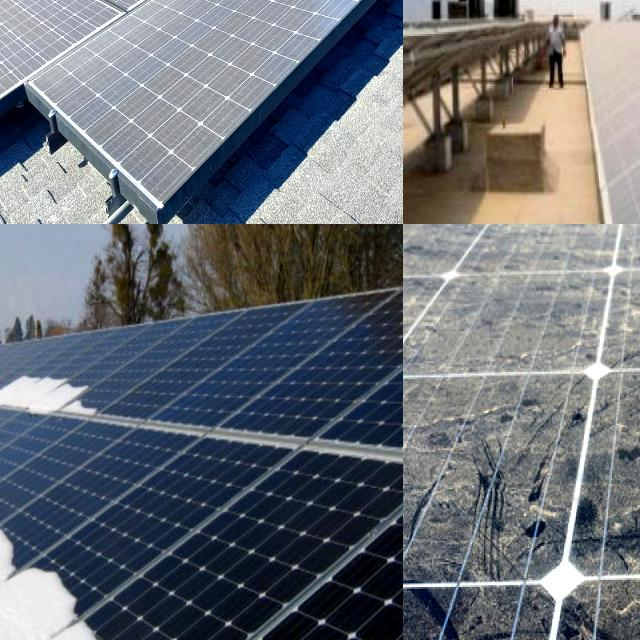dust: (403, 392, 552, 576), (413, 224, 581, 376), (86, 31, 206, 129), (179, 0, 312, 31), (286, 0, 377, 35), (0, 0, 66, 46), (78, 0, 178, 24), (194, 0, 269, 18), (349, 0, 384, 25)
panel: (0, 362, 101, 444), (0, 472, 74, 581), (0, 551, 77, 633), (0, 381, 58, 469), (0, 612, 135, 640), (0, 344, 53, 408)
